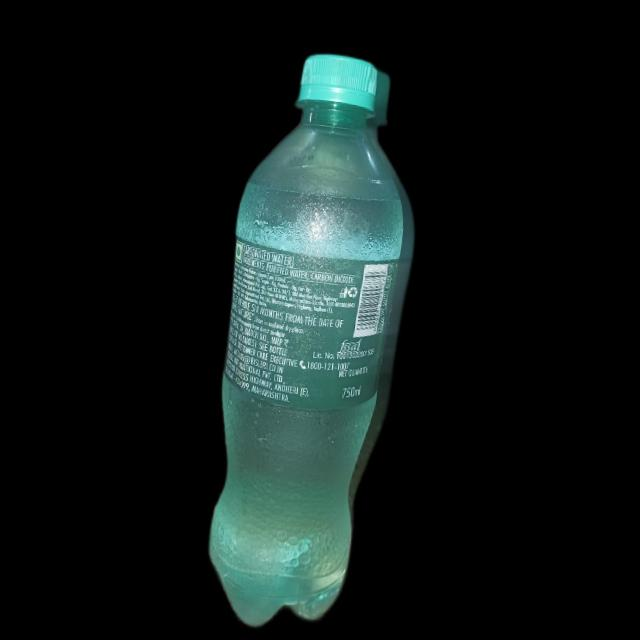Bisleri Club Soda - 750 ml: (180, 37, 439, 640)
